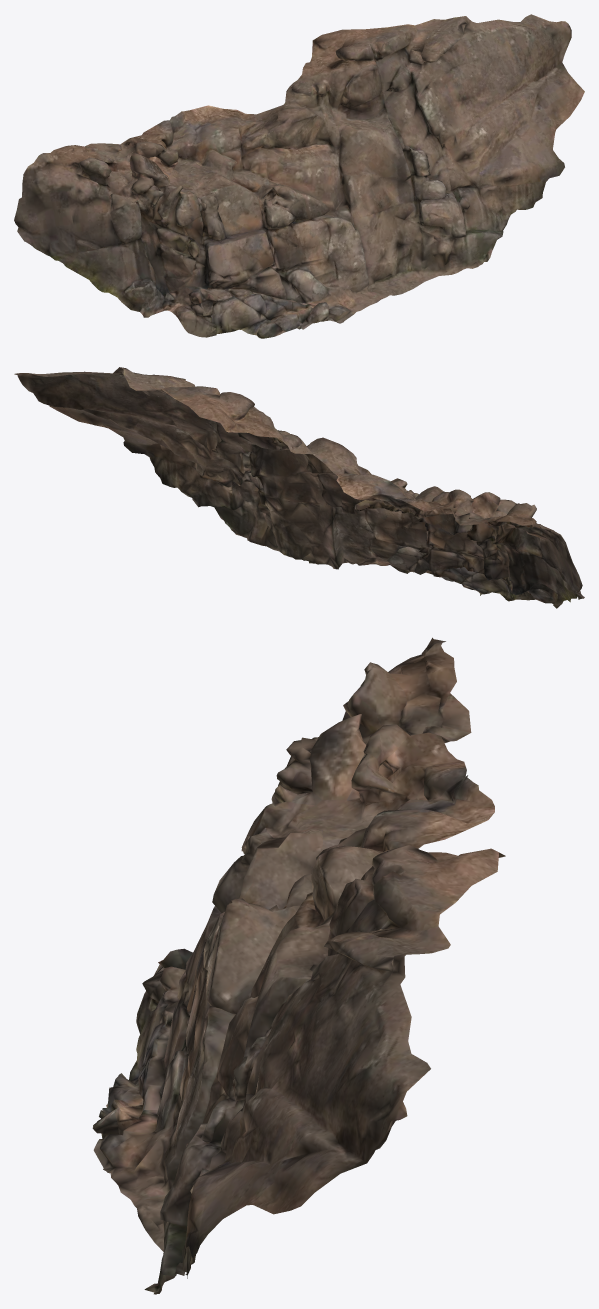
File: cliff.glb
The picture shows the model from 3 angles, top to bottom: view 1: azimuth 30°, elevation 25°; view 2: azimuth 150°, elevation 25°; view 3: azimuth 270°, elevation 25°; orthographic projection. The views are drawn at different scales.
Visible parts, largest first — view 1: drone_rock_02_LOD0; view 2: drone_rock_02_LOD0; view 3: drone_rock_02_LOD0.
Part boxes in pixels (x1,y1,x2,y2): drone_rock_02_LOD0: [14, 14, 584, 338]; drone_rock_02_LOD0: [14, 367, 584, 608]; drone_rock_02_LOD0: [92, 637, 505, 1294].
Size of the model in its own units: 20.23 by 7.17 by 6.58.
Materials: 1 (1 with a texture image).
